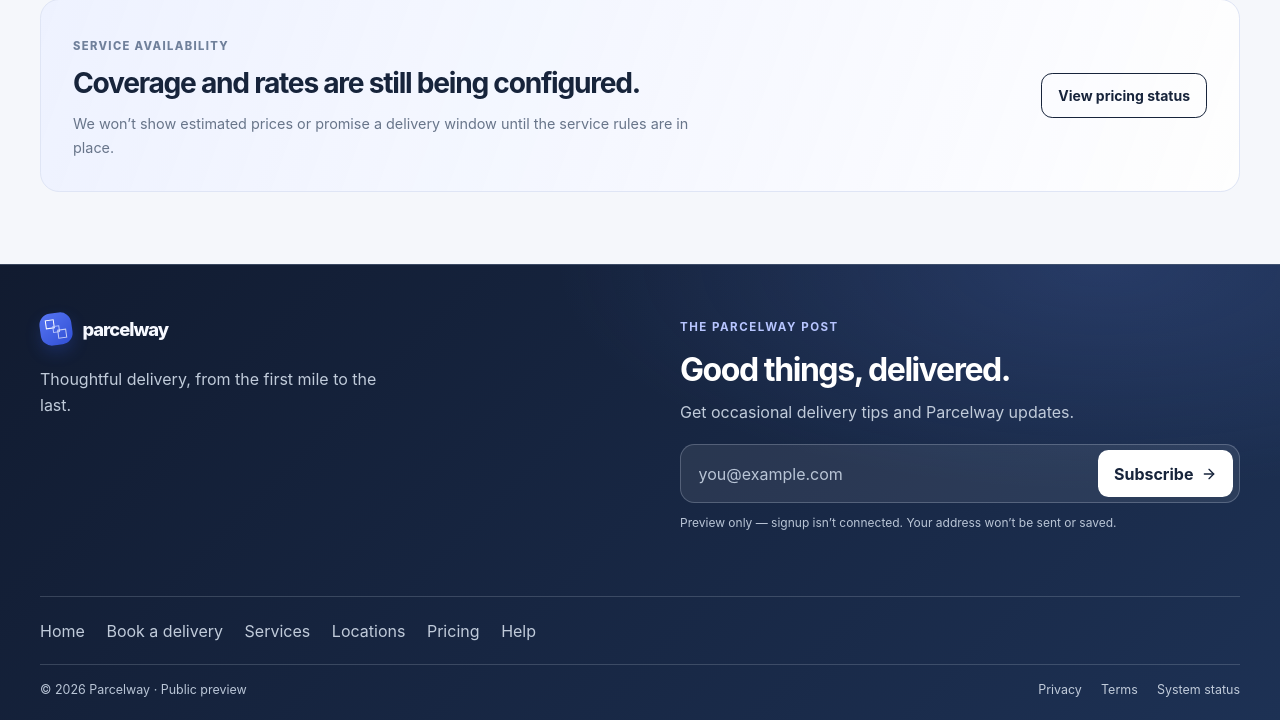
Test: application theme toggle › explains that newsletter signup is unavailable without saving the entered address
The image size is (1280, 720).
(page scrolled)
In the field named "Email address": (888, 474) [687,450,1090,497], type "reader@example.test"
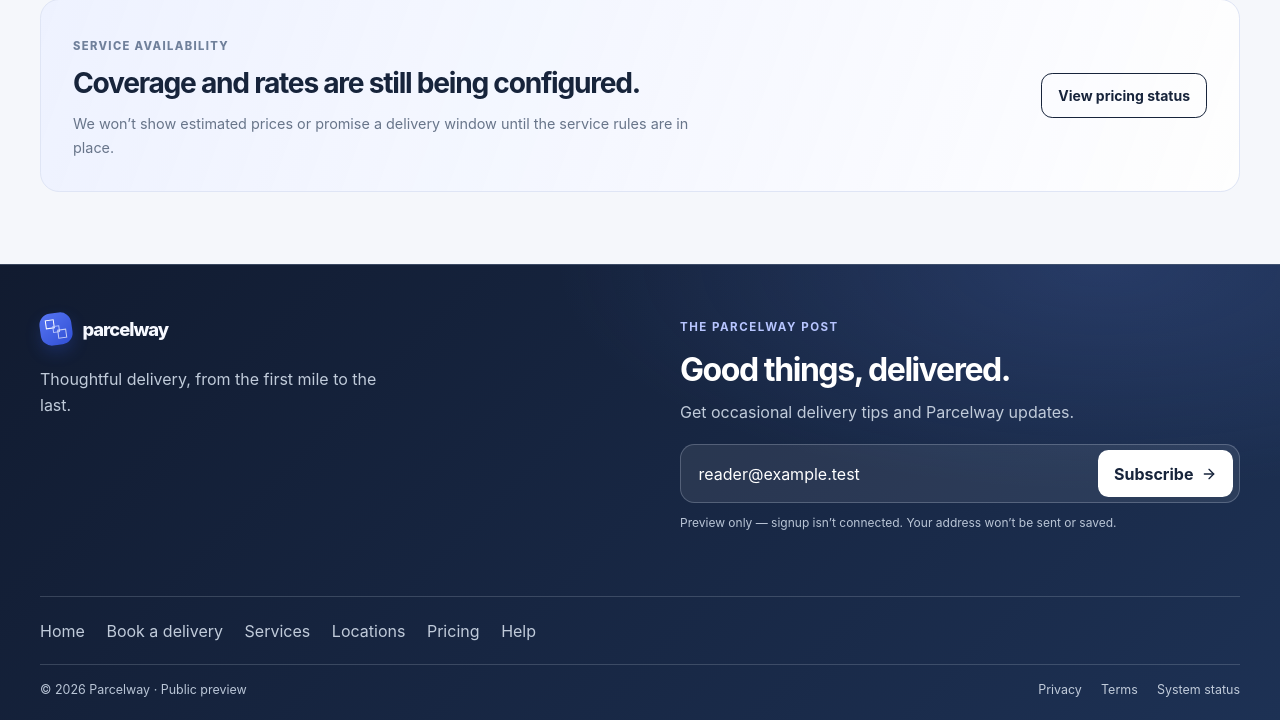
Submit the form named "Newsletter signup", box [680,444,1240,503]
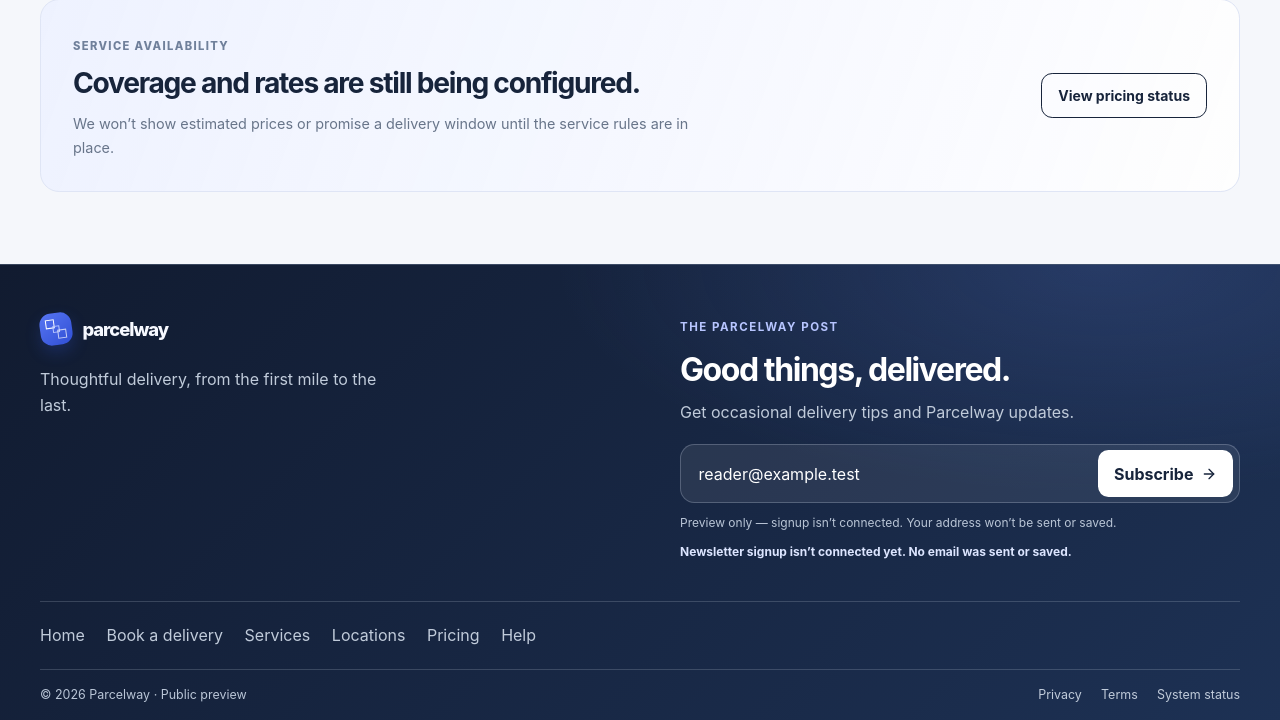
Expected: the message reads "Newsletter signup isn’t connected yet. No email was sent or saved.", [680,544,1072,559]
